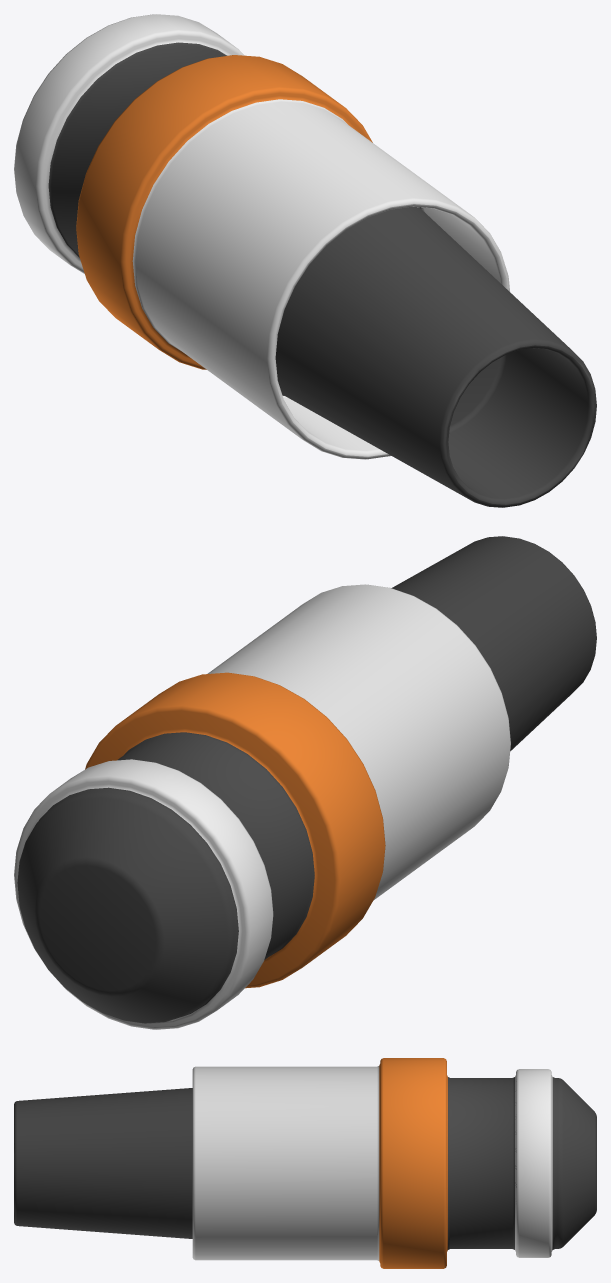
Rendered from Robot_Turbine_01.fbx.
3 renders of one model, top to bottom at view 1: azimuth 30°, elevation 25°; view 2: azimuth 150°, elevation 25°; view 3: azimuth 270°, elevation 25°, orthographic. The views are drawn at different scales.
Visible parts, largest first — view 1: Robot_Turbine_01; view 2: Robot_Turbine_01; view 3: Robot_Turbine_01.
Boxes of the visible parts, box(x1,y1,x2,y2) form: Robot_Turbine_01: box(14, 14, 596, 507); Robot_Turbine_01: box(14, 536, 596, 1029); Robot_Turbine_01: box(14, 1058, 596, 1268).
Bounding box in the file's own units: 0.3297 × 0.3297 × 0.9113.
